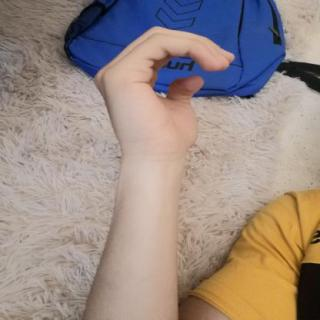JEEM: (83, 14, 247, 168)
